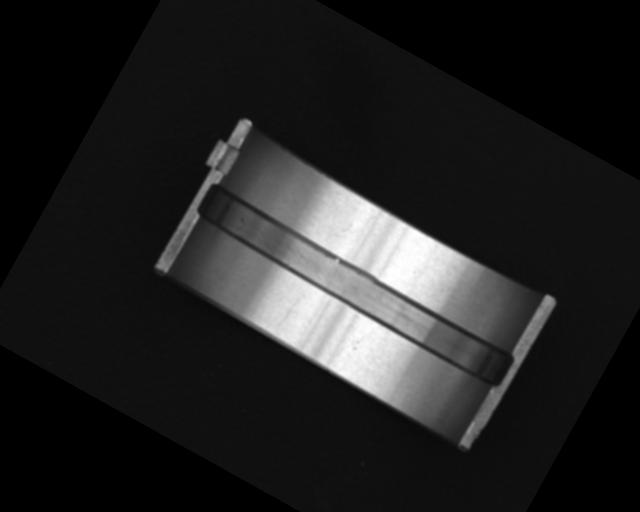gap: (191, 182, 520, 392)
nick: (276, 296, 301, 330)
